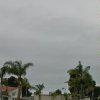Palm tree: (4, 46, 36, 92)
